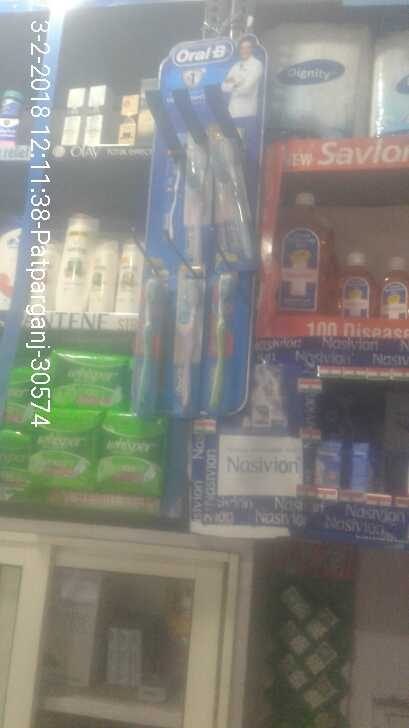pharmacy: (96, 407, 166, 490), (28, 406, 97, 488), (53, 348, 134, 401), (1, 85, 25, 150)
